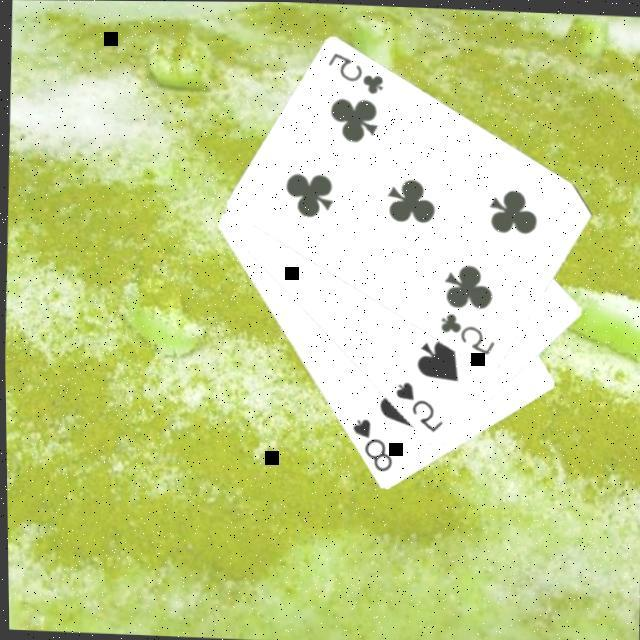5C: (324, 46, 389, 96), (435, 306, 499, 356)
5S: (388, 375, 447, 433)
8S: (346, 411, 397, 472)
